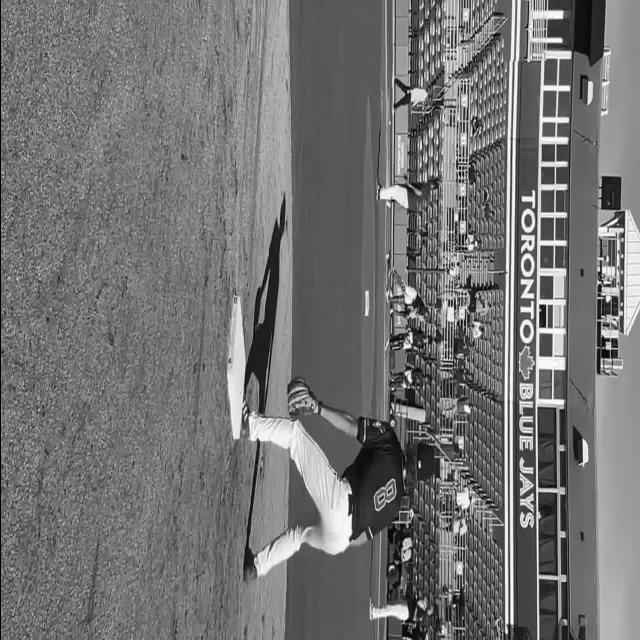base: (228, 299, 244, 441)
baseball_glove: (286, 377, 317, 417)
shoe: (243, 548, 257, 582), (240, 394, 250, 439), (375, 177, 381, 200), (368, 598, 373, 620), (387, 266, 394, 277)
